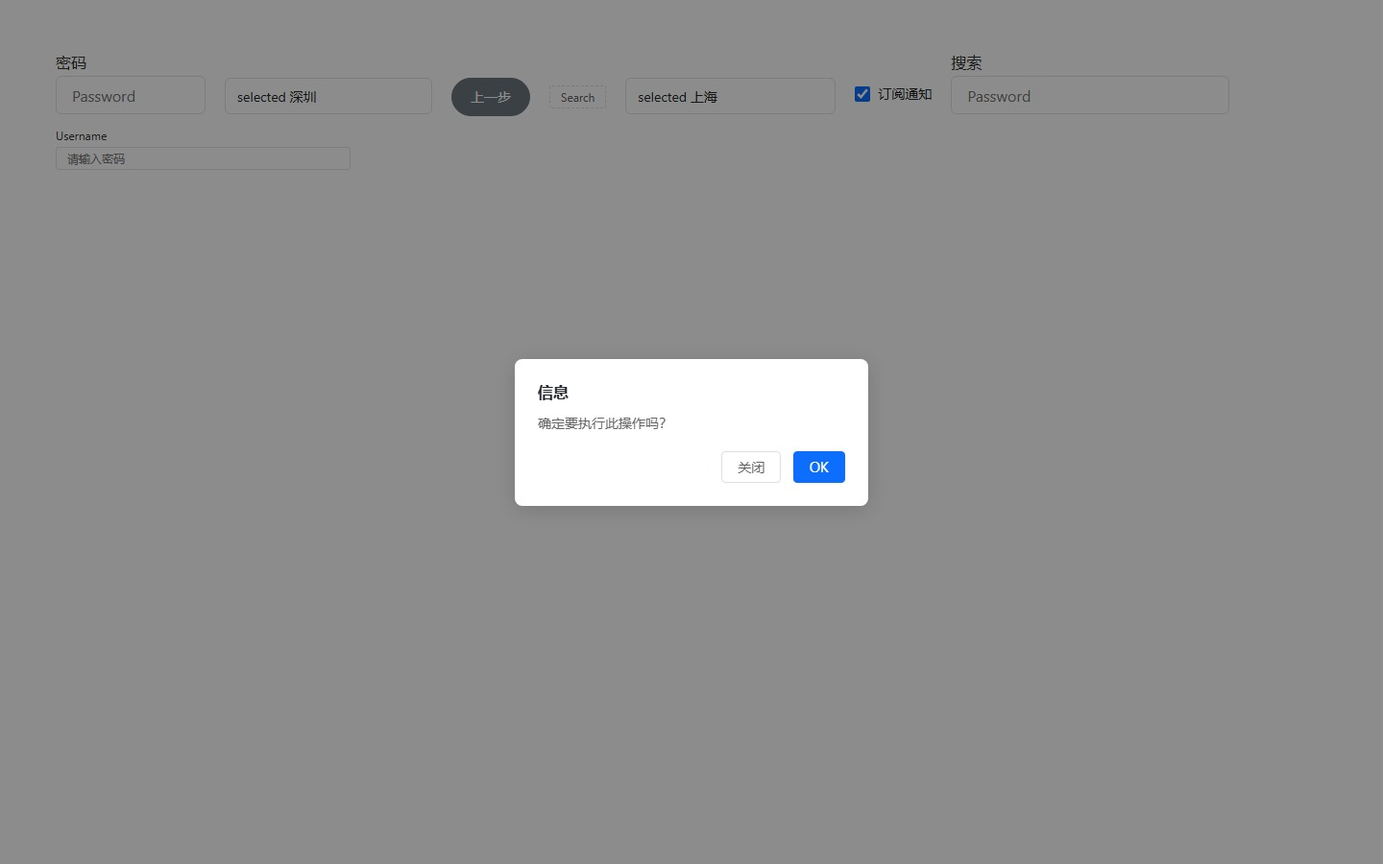button: (451, 77, 530, 116), (722, 451, 781, 482), (793, 451, 845, 482), (549, 85, 606, 108)
checkbox: (855, 86, 870, 101)
icon: (878, 84, 932, 103)
input: (951, 76, 1230, 114), (56, 146, 351, 169), (56, 76, 206, 114)
modal: (0, 0, 1383, 864)
radio: (855, 84, 932, 103)
select: (625, 78, 836, 114), (225, 78, 432, 114)
